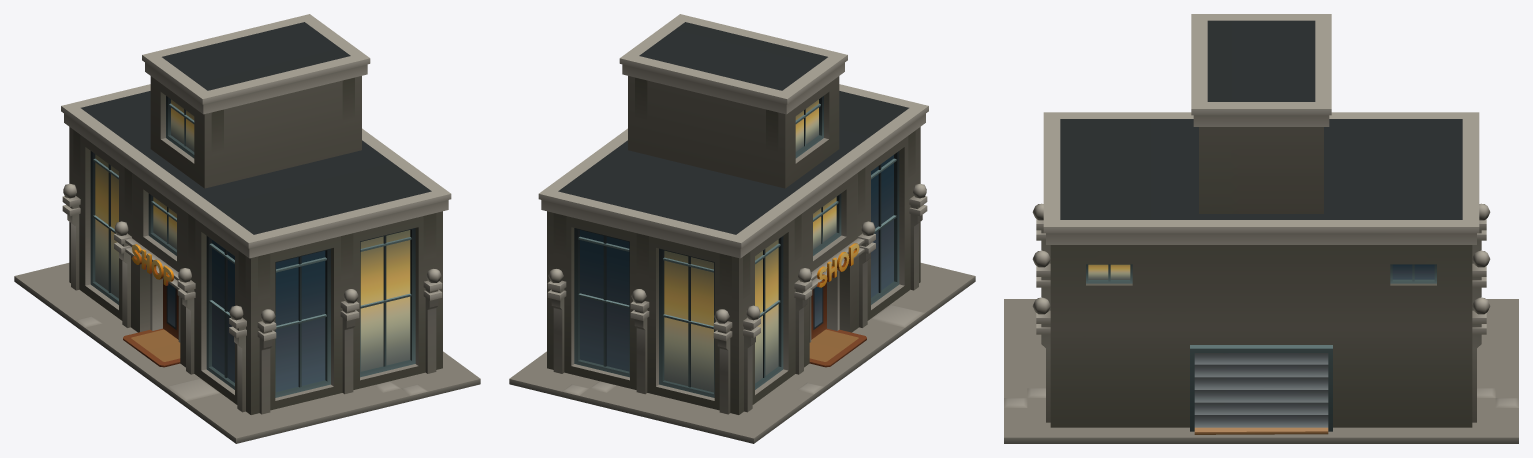
File: Building_10A.fbx
The picture shows the model from 3 angles, left to right: view 1: azimuth 30°, elevation 25°; view 2: azimuth 150°, elevation 25°; view 3: azimuth 270°, elevation 25°; orthographic projection. The views are drawn at different scales.
Parts seen in each view (by area): view 1: Building_10A, Window_Lights_10A, Logo_10A; view 2: Building_10A, Window_Lights_10A, Logo_10A; view 3: Building_10A, Window_Lights_10A.
Boxes of the visible parts, x1=… form: Building_10A: x1=14, y1=14, x2=480, y2=443; Window_Lights_10A: x1=95, y1=99, x2=410, y2=371; Logo_10A: x1=131, y1=244, x2=173, y2=285; Building_10A: x1=509, y1=14, x2=975, y2=443; Window_Lights_10A: x1=664, y1=99, x2=836, y2=392; Logo_10A: x1=817, y1=243, x2=859, y2=287; Building_10A: x1=1004, y1=14, x2=1518, y2=443; Window_Lights_10A: x1=1088, y1=264, x2=1130, y2=279.
Bounding box in the file's own units: 1400 × 1501 × 2200.
